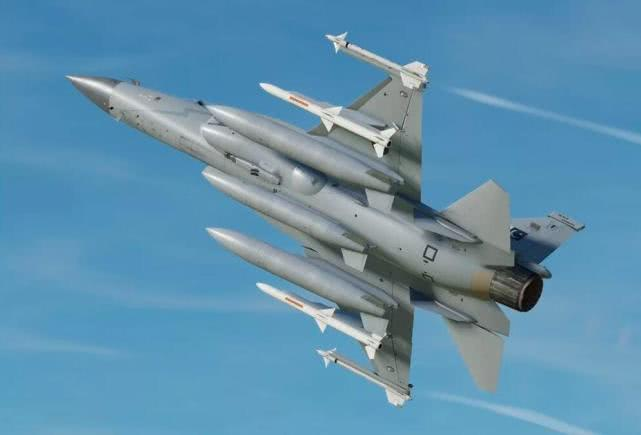airplane: (42, 28, 587, 406)
